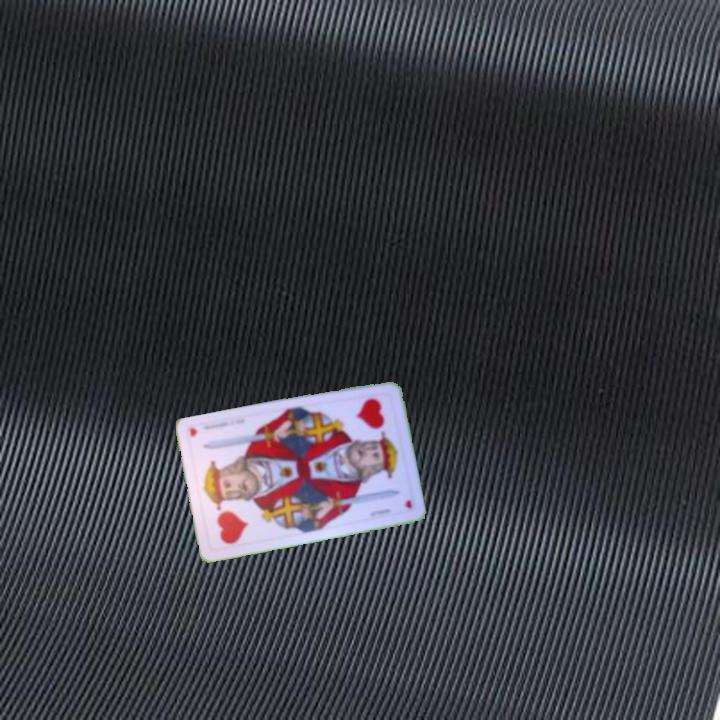h_k.png: (335, 387, 404, 463), (196, 477, 265, 552)
